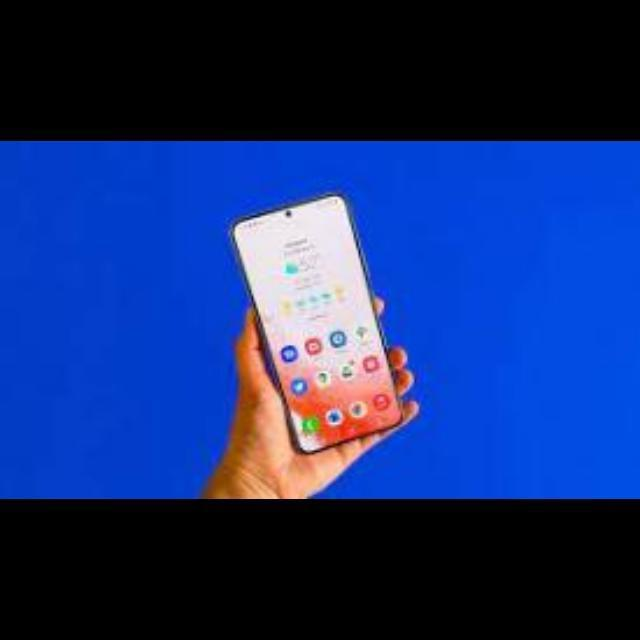PhoneUse: (232, 194, 402, 456)
